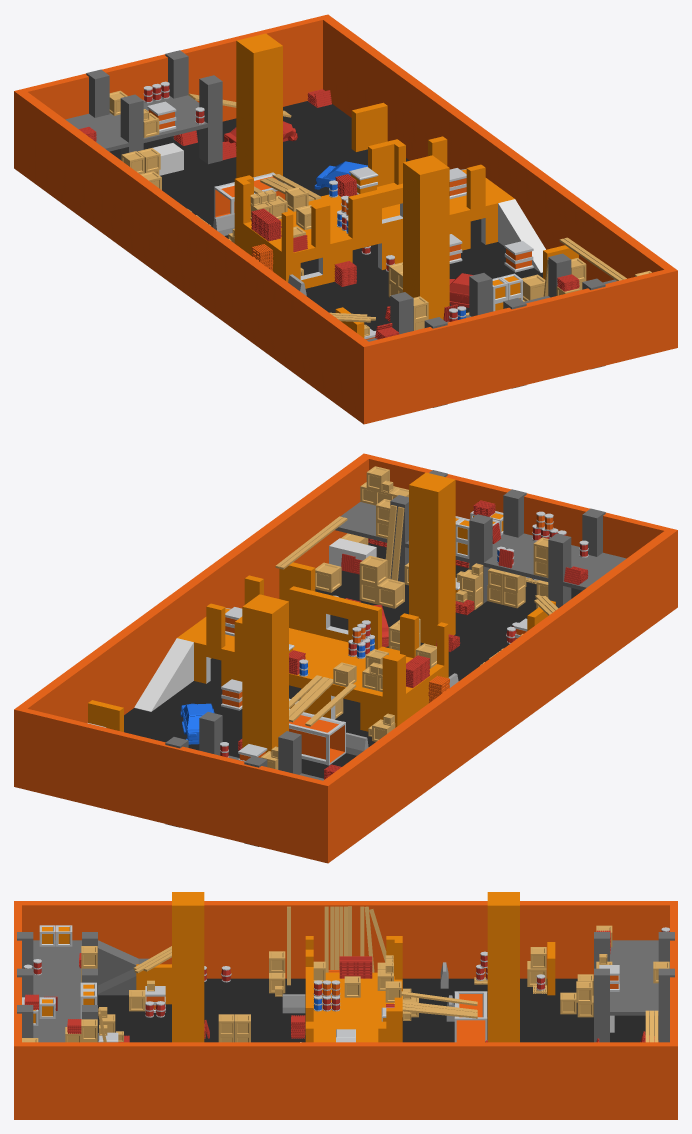
File: map.glb
The picture shows the model from 3 angles, top to bottom: view 1: azimuth 30°, elevation 25°; view 2: azimuth 150°, elevation 25°; view 3: azimuth 270°, elevation 25°; orthographic projection. The views are drawn at different scales.
Parts seen in each view (by area): view 1: floors, room, Plane, Cube.016, obj.048, obj.049, Cube.004, Cube.001, obj.004, Cube.005, BigBox.004, Cube.011 (+2 smaller); view 2: floors, room, Plane, Cube.004, obj.048, obj.049, Cube.016, Cube.002, Cube.005, obj.002, obj.004, Cube.017 (+4 smaller); view 3: floors, Plane, Cube.016, Cube.004, room, obj.048, obj.049, up2, Cube.005, Cube.030, obj.024, Cube.023 (+17 smaller).
Boxes of the visible parts, bbox=[...] form: floors: bbox=[14, 14, 677, 424]; room: bbox=[234, 136, 514, 288]; Plane: bbox=[110, 101, 542, 330]; Cube.016: bbox=[65, 50, 222, 164]; obj.048: bbox=[403, 155, 449, 319]; obj.049: bbox=[236, 33, 282, 178]; Cube.004: bbox=[367, 253, 616, 407]; Cube.001: bbox=[498, 199, 545, 272]; obj.004: bbox=[351, 102, 387, 151]; Cube.005: bbox=[214, 172, 286, 217]; BigBox.004: bbox=[504, 241, 533, 272]; Cube.011: bbox=[153, 143, 183, 175]; floors: bbox=[14, 453, 677, 863]; room: bbox=[177, 575, 448, 731]; Plane: bbox=[124, 543, 581, 778]; Cube.004: bbox=[335, 470, 626, 608]; obj.048: bbox=[409, 472, 455, 645]; obj.049: bbox=[242, 594, 288, 752]; Cube.016: bbox=[165, 712, 323, 846]; Cube.002: bbox=[134, 638, 193, 711]; Cube.005: bbox=[289, 709, 345, 765]; obj.002: bbox=[279, 562, 315, 601]; obj.004: bbox=[88, 700, 123, 731]; Cube.017: bbox=[329, 538, 376, 566]; floors: bbox=[14, 901, 677, 1119]; Plane: bbox=[98, 978, 658, 1042]; Cube.016: bbox=[594, 932, 674, 1042]; Cube.004: bbox=[17, 932, 97, 1042]; room: bbox=[305, 936, 402, 1042]; obj.048: bbox=[172, 892, 204, 1042]; obj.049: bbox=[487, 892, 519, 1042]; up2: bbox=[98, 940, 148, 995]; Cube.005: bbox=[454, 991, 487, 1042]; Cube.030: bbox=[330, 906, 347, 969]; obj.024: bbox=[136, 964, 171, 1004]; Cube.023: bbox=[360, 906, 374, 972].
Size of the model in its own units: 26.74 by 12.74 by 51.58.
